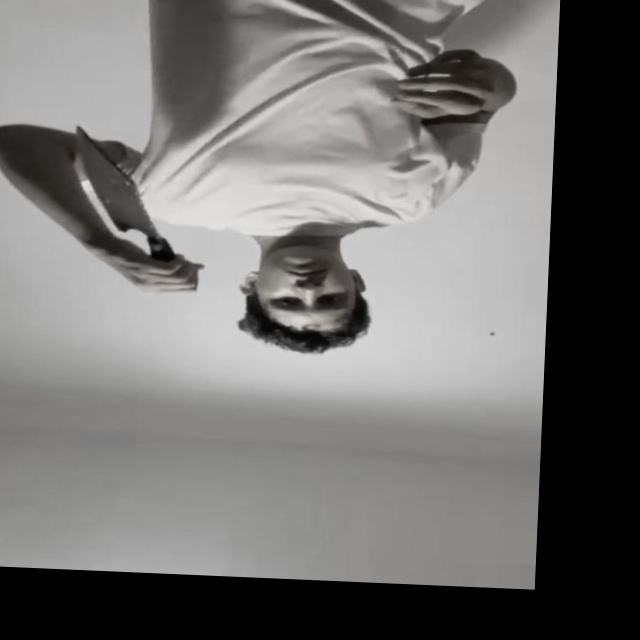Sharp-Object: (70, 134, 163, 234)
